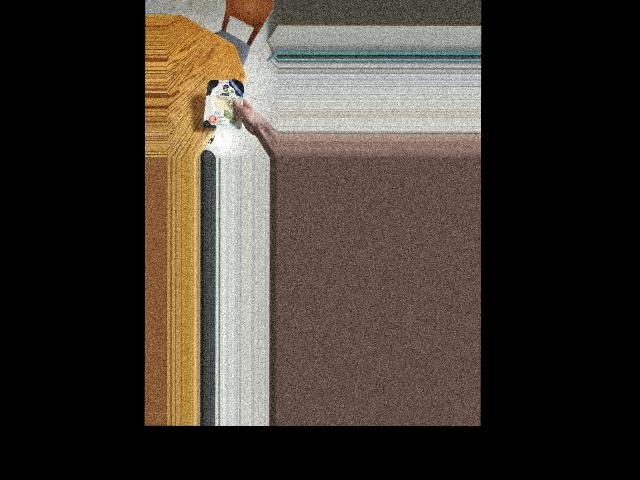cheese: (203, 71, 242, 137)
